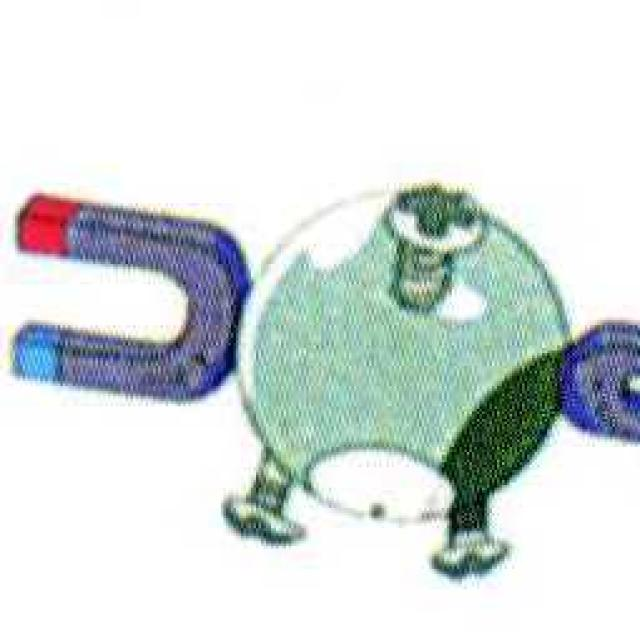Magnemite: (19, 186, 640, 546)
